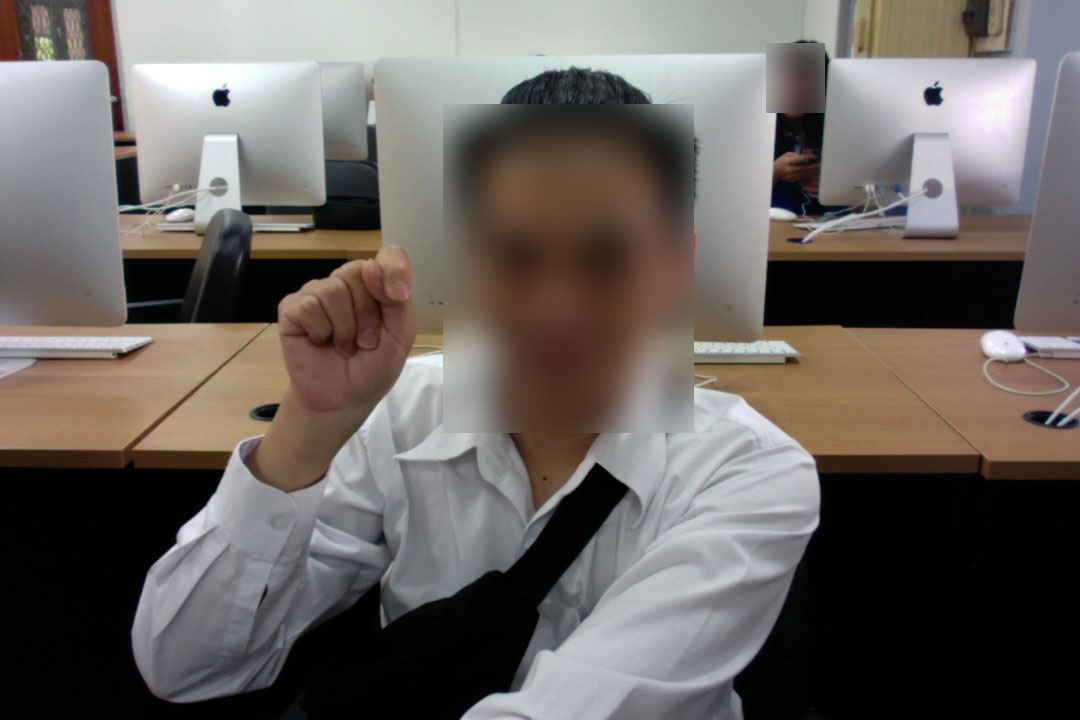tor: (275, 241, 419, 427)
